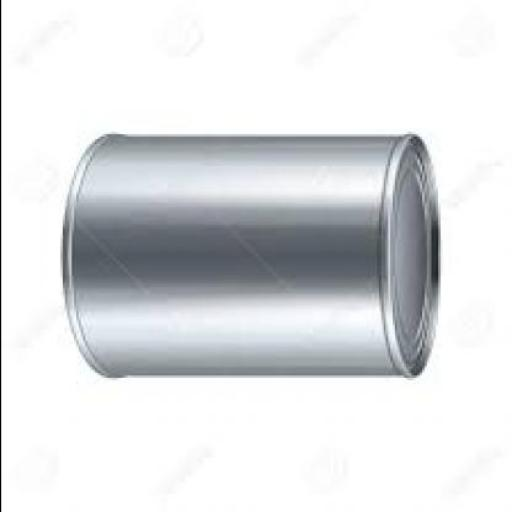metal: (64, 137, 439, 380)
